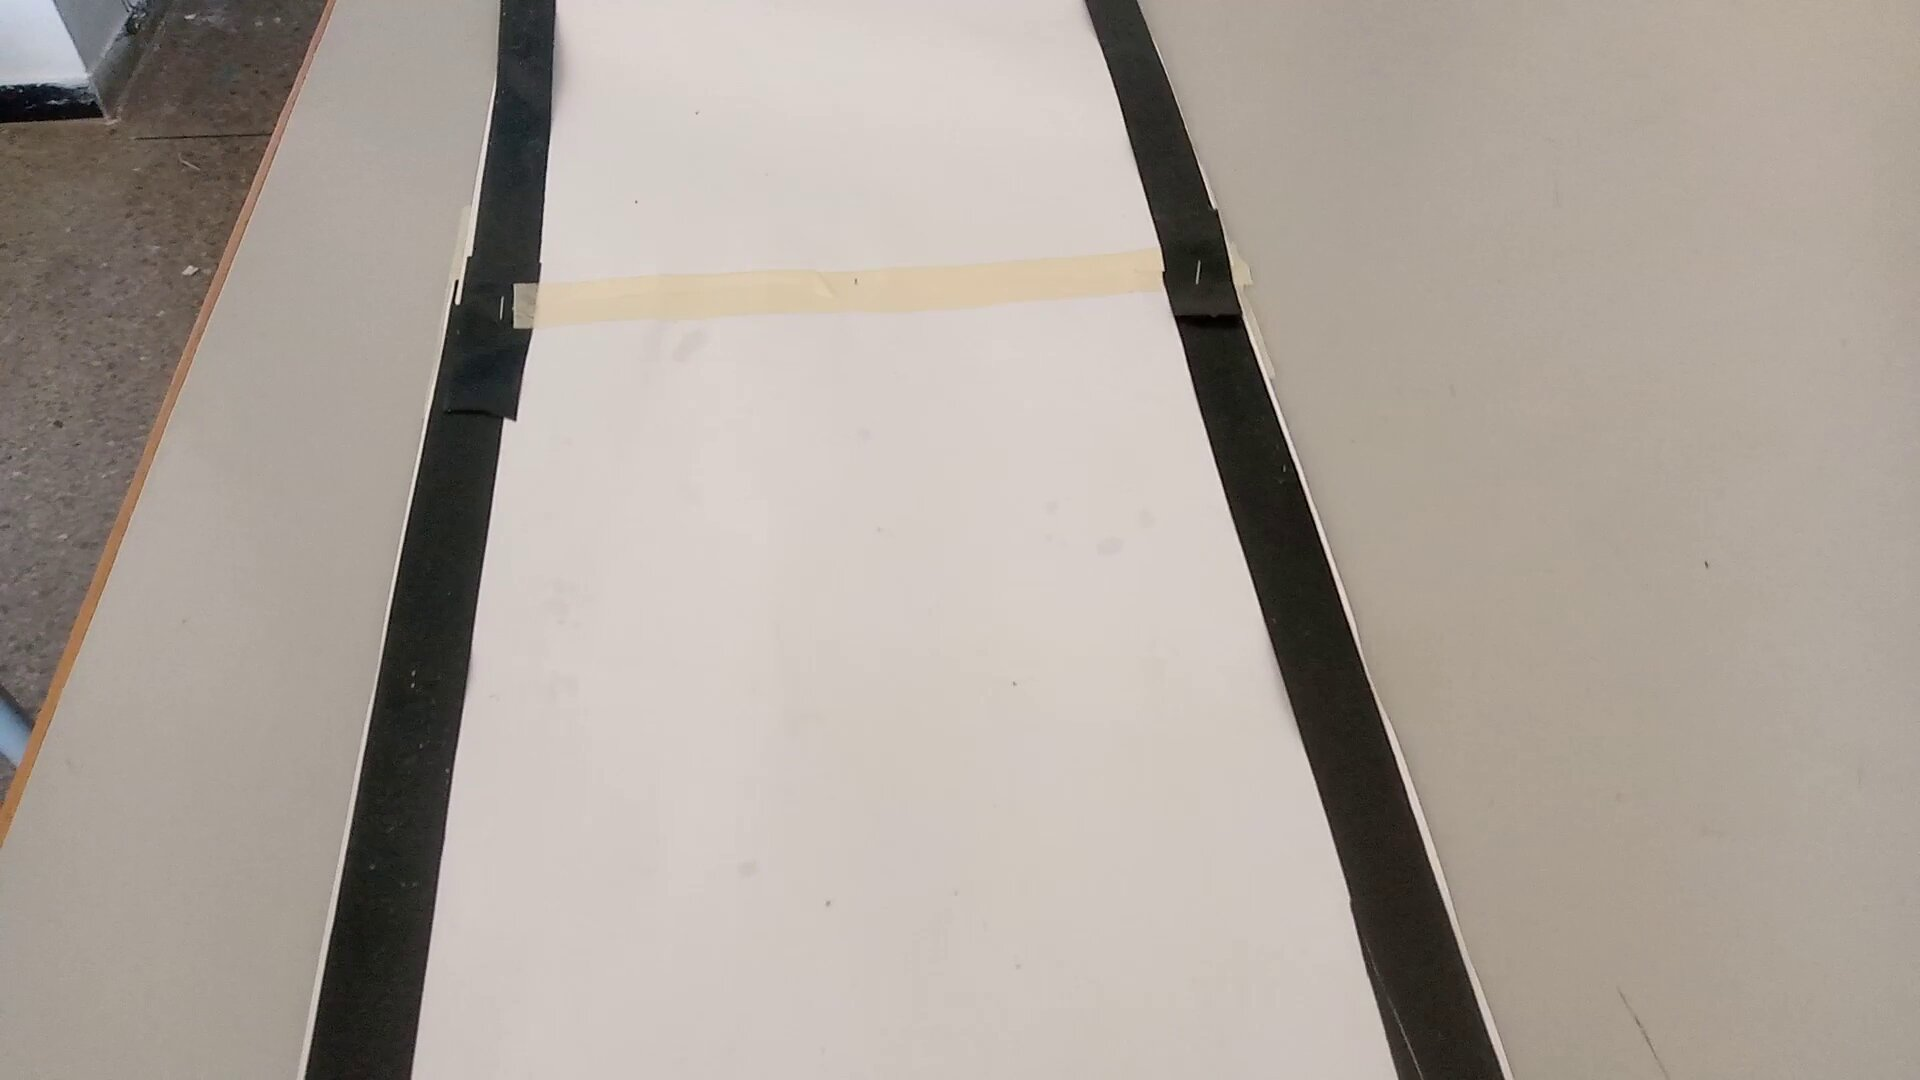forward: (319, 510, 1449, 885)
right: (390, 222, 1447, 426)
